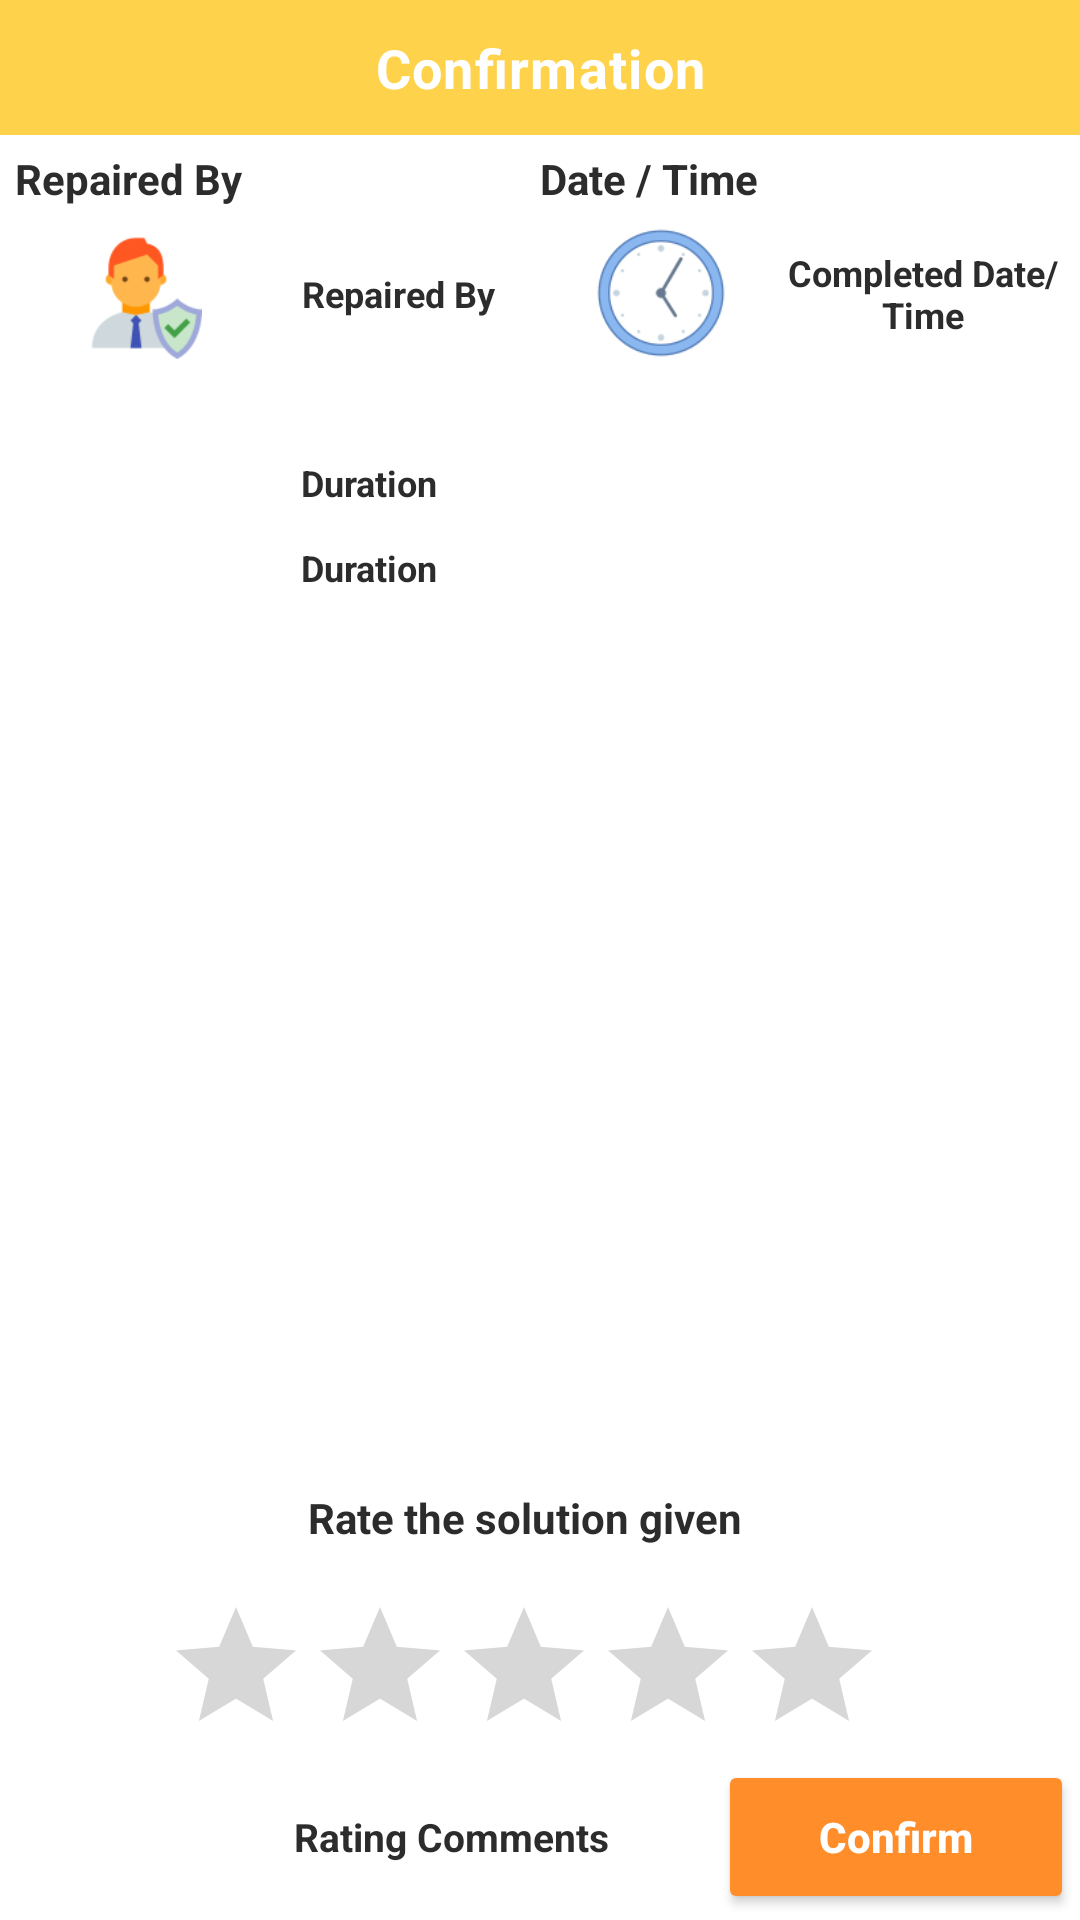

Icons on this 1080px x 1920px Android screen, each with the point to tap as (x,y):
clock: (661,293)
person: (147,298)
